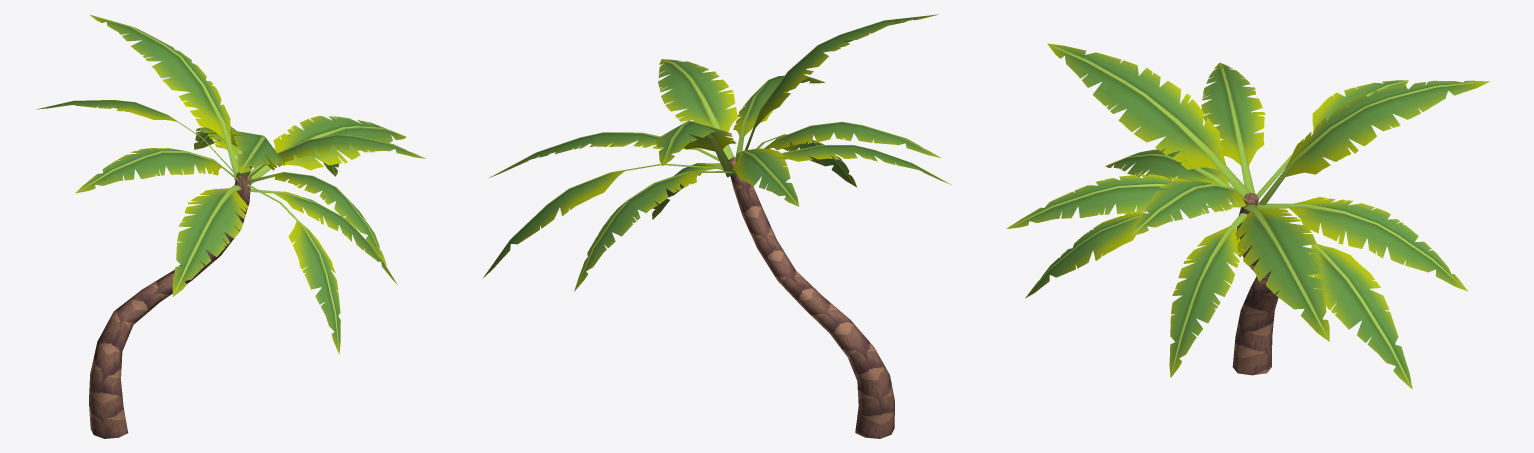
The model's file is palmtree_4.glb.
3 renders of one model, left to right at view 1: azimuth 30°, elevation 25°; view 2: azimuth 150°, elevation 25°; view 3: azimuth 270°, elevation 25°, orthographic. The views are drawn at different scales.
Visible parts, largest first — view 1: PalmTree_4; view 2: PalmTree_4; view 3: PalmTree_4.
Part boxes in pixels (<box>): PalmTree_4: <box>36,15,425,438</box>; PalmTree_4: <box>482,14,951,438</box>; PalmTree_4: <box>1007,43,1489,388</box>.
Bounding box in the file's own units: 4.75 × 3.65 × 4.95.
2 materials, 2 textured.
